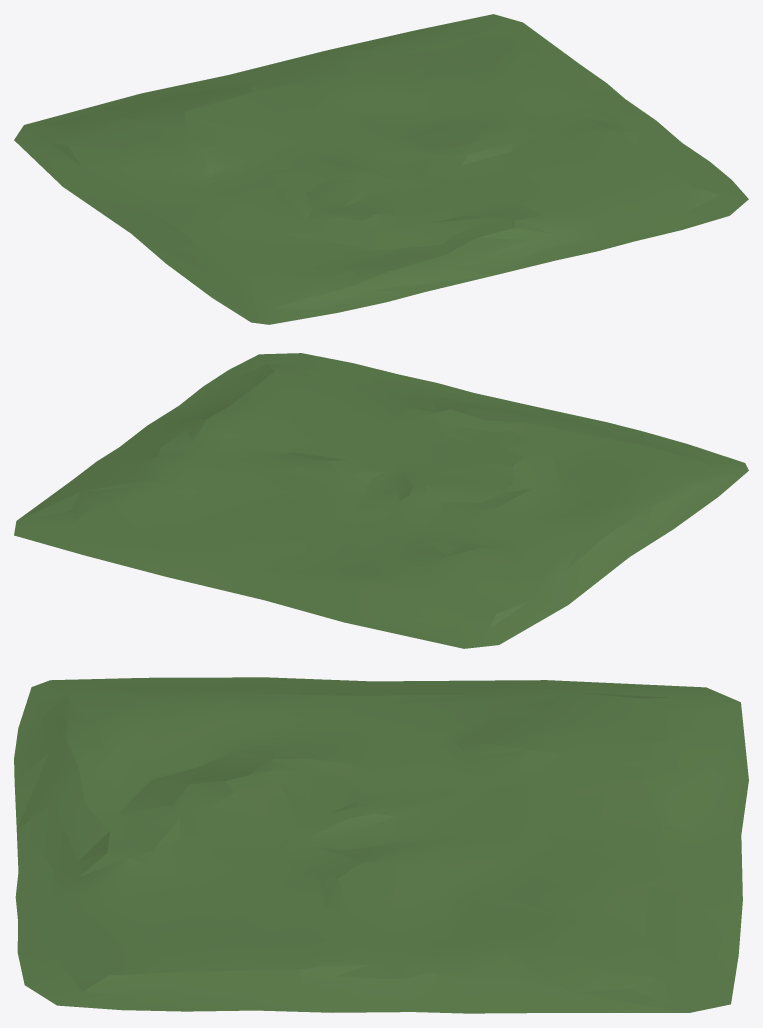
The model's file is floor.glb.
3 views of the same model, one above another, from view 1: azimuth 30°, elevation 25°; view 2: azimuth 150°, elevation 25°; view 3: azimuth 270°, elevation 25° (orthographic). The views are drawn at different scales.
Parts seen in each view (by area): view 1: SM_Generic_Ground_Flat_01_SM_Generic_Ground_Flat_01_PolygonT; view 2: SM_Generic_Ground_Flat_01_SM_Generic_Ground_Flat_01_PolygonT; view 3: SM_Generic_Ground_Flat_01_SM_Generic_Ground_Flat_01_PolygonT.
Part boxes in pixels (x1,y1,x2,y2): SM_Generic_Ground_Flat_01_SM_Generic_Ground_Flat_01_PolygonT: (14,14,748,324); SM_Generic_Ground_Flat_01_SM_Generic_Ground_Flat_01_PolygonT: (14,353,748,648); SM_Generic_Ground_Flat_01_SM_Generic_Ground_Flat_01_PolygonT: (14,677,748,1013).
Size of the model in its own units: 20.74 by 0.4643 by 19.23.
1 material, 1 textured.
